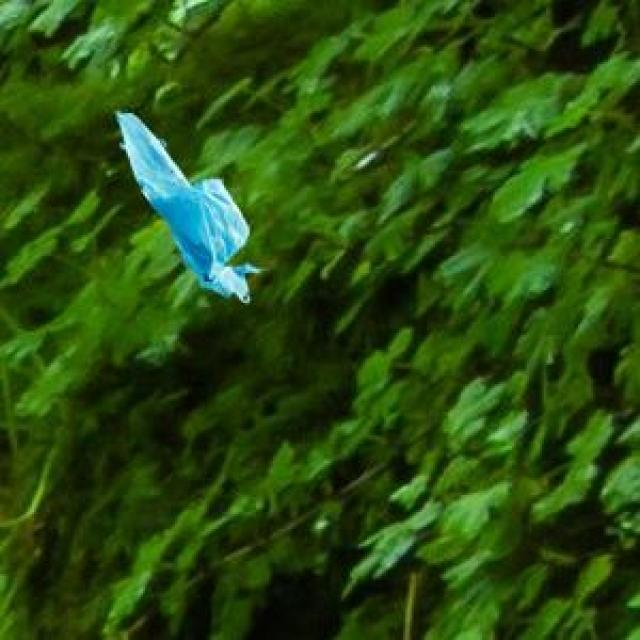waste: (105, 114, 278, 304)
